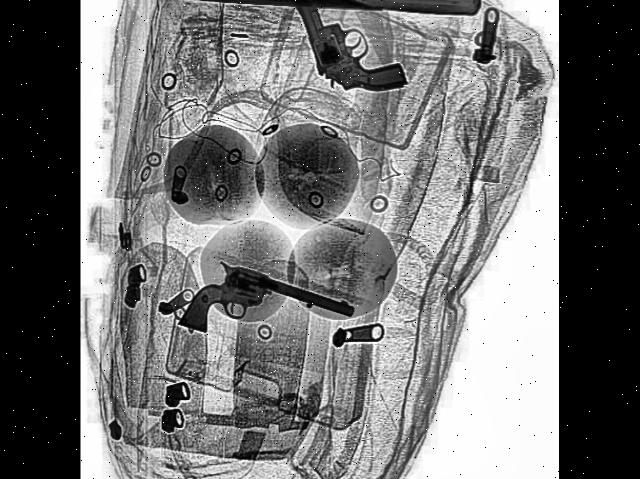Gun: (182, 249, 356, 384), (299, 0, 410, 133)
Knife: (170, 0, 482, 17)
